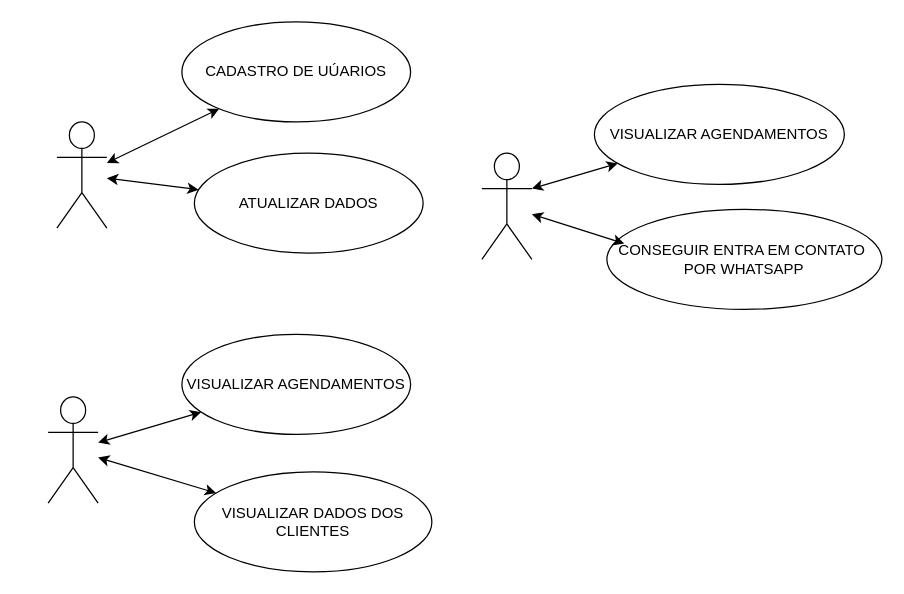
Image size: 904x594. Some labels were removed from this diagram. The shapes that lost their labels are listed below. From the top down, each one's centre as x and y in pixels, then its label:
At (81,174): "RECEPCIONISTA".
At (506,205): "APACIENTE".
At (72,449): "MÉDICOS".
